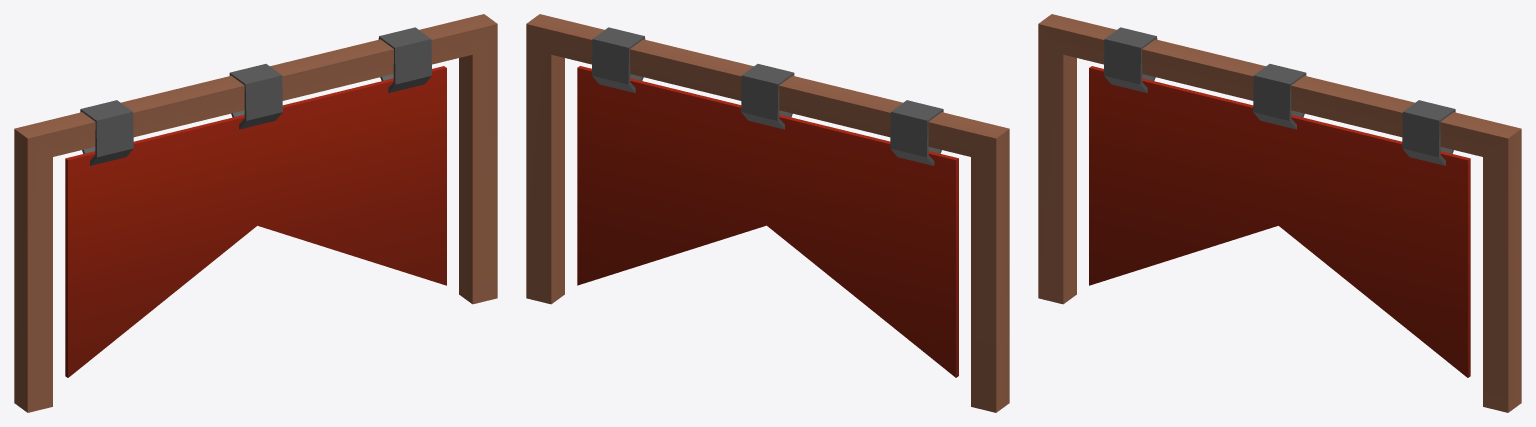
File: StandBarrier_1.fbx
3 views of the same model, side by side, from view 1: azimuth 30°, elevation 25°; view 2: azimuth 150°, elevation 25°; view 3: azimuth 330°, elevation 25° (orthographic).
Parts seen in each view (by area): view 1: StandBarrier_1; view 2: StandBarrier_1; view 3: StandBarrier_1.
Boxes of the visible parts, left/top/right/bottom form: StandBarrier_1: left=14, top=14, right=497, bottom=412; StandBarrier_1: left=526, top=14, right=1009, bottom=412; StandBarrier_1: left=1038, top=14, right=1521, bottom=412.
Size of the model in its own units: 233 by 131 by 14.83.
